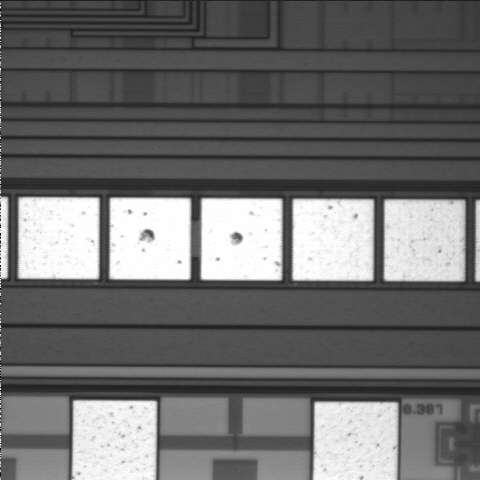pad: (18, 197, 99, 279), (110, 198, 191, 280), (201, 198, 282, 280), (293, 199, 374, 281), (384, 200, 465, 281)
